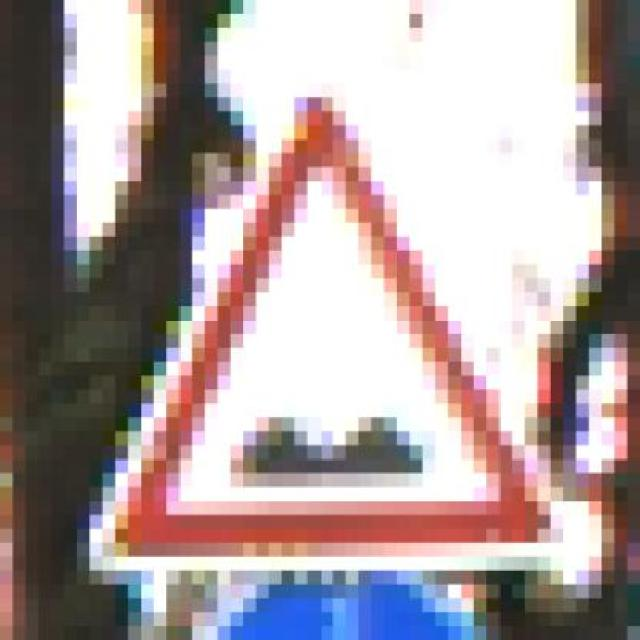Uneven Road: (65, 69, 563, 557)
